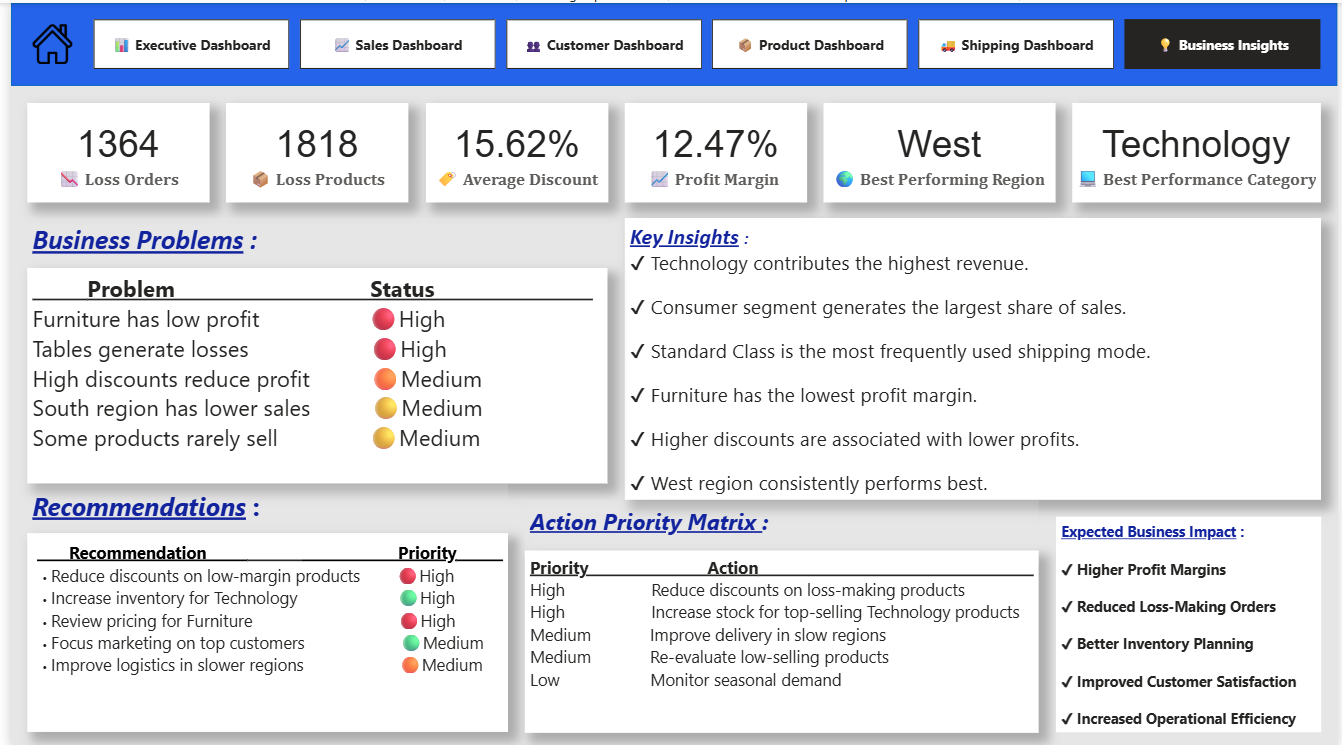

This screenshot's page, from the dashboard's own definition file:
{"tool":"powerbi","page":{"name":"💡 Business Insights","canvas":[1280,720],"ordinal":6},"visuals":[{"type":"shape","box":[0,0,1280,80],"z":0},{"type":"pageNavigator","box":[80,16,1184,48],"z":1000},{"type":"card","fields":{"Values":["Business Measures.Loss Orders"]},"box":[16,96,176,96],"z":2000},{"type":"card","fields":{"Values":["Business Measures.Loss Products"]},"box":[208,96,176,96],"z":3000},{"type":"card","fields":{"Values":["KPI_Measures.Average Discount"]},"box":[400,96,176,96],"z":4000},{"type":"card","fields":{"Values":["KPI_Measures.Profit Margin %"]},"box":[592,96,176,96],"z":5000},{"type":"card","fields":{"Values":["Business Measures.Best Performing Region"]},"box":[784,96,224,96],"z":6000},{"type":"card","fields":{"Values":["Business Measures.Best Performance Category"]},"box":[1024,96,240,96],"z":7000},{"type":"textbox","box":[16,208,560,48],"z":8000},{"type":"textbox","box":[592,208,672,272],"z":9000},{"type":"textbox","box":[16,512,464,192],"z":10000},{"type":"textbox","box":[496,528,496,176],"z":11000},{"type":"textbox","box":[16,256,560,208],"z":12000},{"type":"textbox","box":[16,464,464,48],"z":13000},{"type":"textbox","box":[496,480,496,48],"z":14000},{"type":"textbox","box":[1008,496,256,208],"z":15000},{"type":"image","box":[0,16,80,48],"z":16000}]}

Visuals, with their boxes in screenshot pixels (x1, y1, x2, y2), scaled from the page's 1280x720 canvas onto the 1342x745 screenshot:
shape: x1=0, y1=0, x2=1341, y2=83
pageNavigator: x1=84, y1=17, x2=1325, y2=66
card - Business Measures.Loss Orders: x1=17, y1=99, x2=201, y2=199
card - Business Measures.Loss Products: x1=218, y1=99, x2=403, y2=199
card - KPI_Measures.Average Discount: x1=419, y1=99, x2=604, y2=199
card - KPI_Measures.Profit Margin %: x1=621, y1=99, x2=805, y2=199
card - Business Measures.Best Performing Region: x1=822, y1=99, x2=1057, y2=199
card - Business Measures.Best Performance Category: x1=1074, y1=99, x2=1325, y2=199
textbox: x1=17, y1=215, x2=604, y2=265
textbox: x1=621, y1=215, x2=1325, y2=497
textbox: x1=17, y1=530, x2=503, y2=728
textbox: x1=520, y1=546, x2=1040, y2=728
textbox: x1=17, y1=265, x2=604, y2=480
textbox: x1=17, y1=480, x2=503, y2=530
textbox: x1=520, y1=497, x2=1040, y2=546
textbox: x1=1057, y1=513, x2=1325, y2=728
image: x1=0, y1=17, x2=84, y2=66
